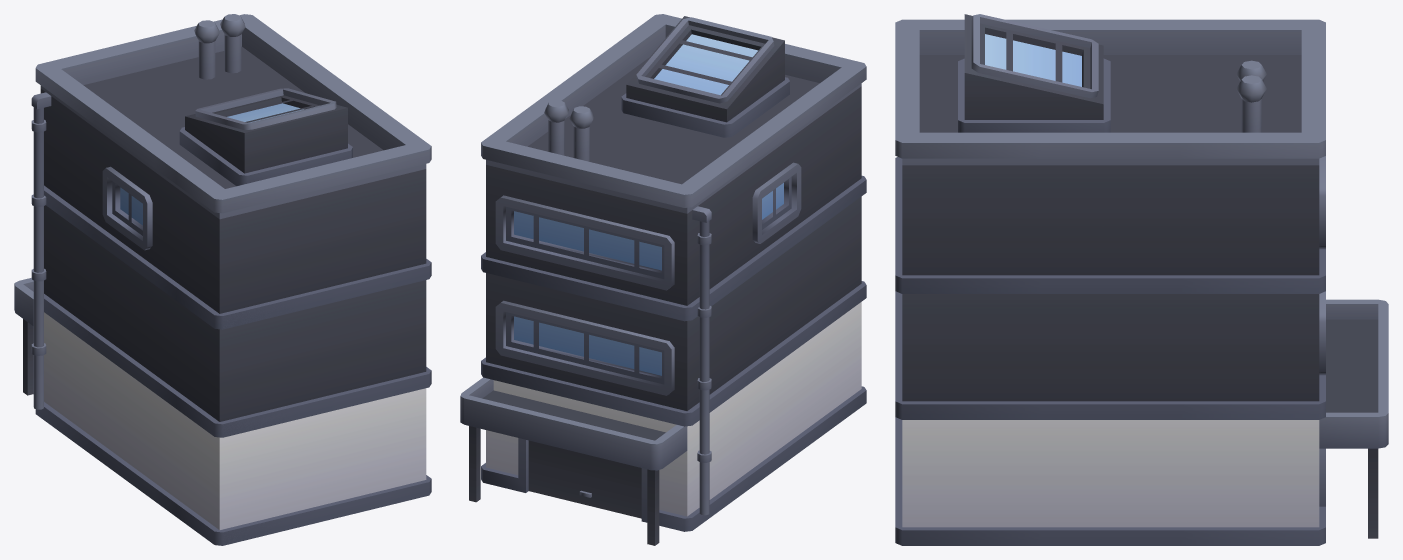
File: kenney-city-industrial-building-d.glb
3 renders of one model, left to right at view 1: azimuth 30°, elevation 25°; view 2: azimuth 150°, elevation 25°; view 3: azimuth 270°, elevation 25°, orthographic. The views are drawn at different scales.
Parts seen in each view (by area): view 1: building-d; view 2: building-d; view 3: building-d.
Boxes of the visible parts, x1=… form: building-d: x1=14, y1=14, x2=431, y2=545; building-d: x1=460, y1=14, x2=866, y2=545; building-d: x1=895, y1=14, x2=1388, y2=545.
Bounding box in the file's own units: 0.8836 × 1.41 × 1.42.
Materials: 1 (1 with a texture image).
